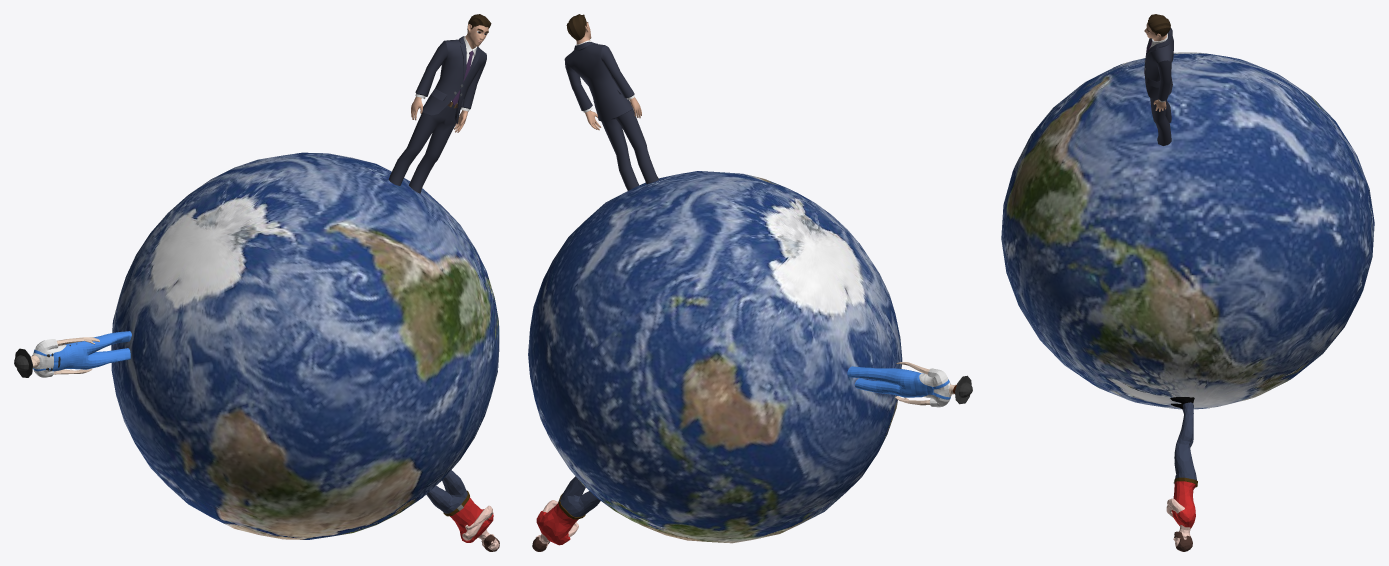
File: network_scene.glb
3 views of the same model, side by side, from view 1: azimuth 30°, elevation 25°; view 2: azimuth 150°, elevation 25°; view 3: azimuth 270°, elevation 25° (orthographic). The views are drawn at different scales.
Visible parts, largest first — view 1: earth, man_in_suit, FarmerMan, m_ca01000; view 2: earth, man_in_suit, FarmerMan, m_ca01000; view 3: earth, man_in_suit, m_ca01000.
Boxes of the visible parts, <box> form: earth: <box>111,152,499,539</box>; man_in_suit: <box>388,14,491,193</box>; FarmerMan: <box>14,331,131,377</box>; m_ca01000: <box>426,470,499,551</box>; earth: <box>528,171,902,543</box>; man_in_suit: <box>564,14,658,190</box>; FarmerMan: <box>847,362,972,407</box>; m_ca01000: <box>532,476,600,551</box>; earth: <box>1001,52,1374,409</box>; man_in_suit: <box>1144,14,1173,145</box>; m_ca01000: <box>1166,397,1197,551</box>.
Size of the model in its own units: 2.39 by 2.69 by 1.74.
Materials: 29 (2 with a texture image).
